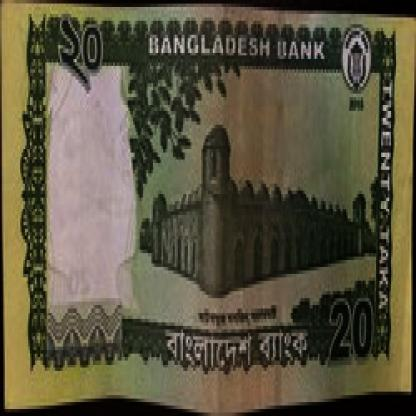Twenty: (53, 10, 133, 104), (324, 292, 378, 375)
